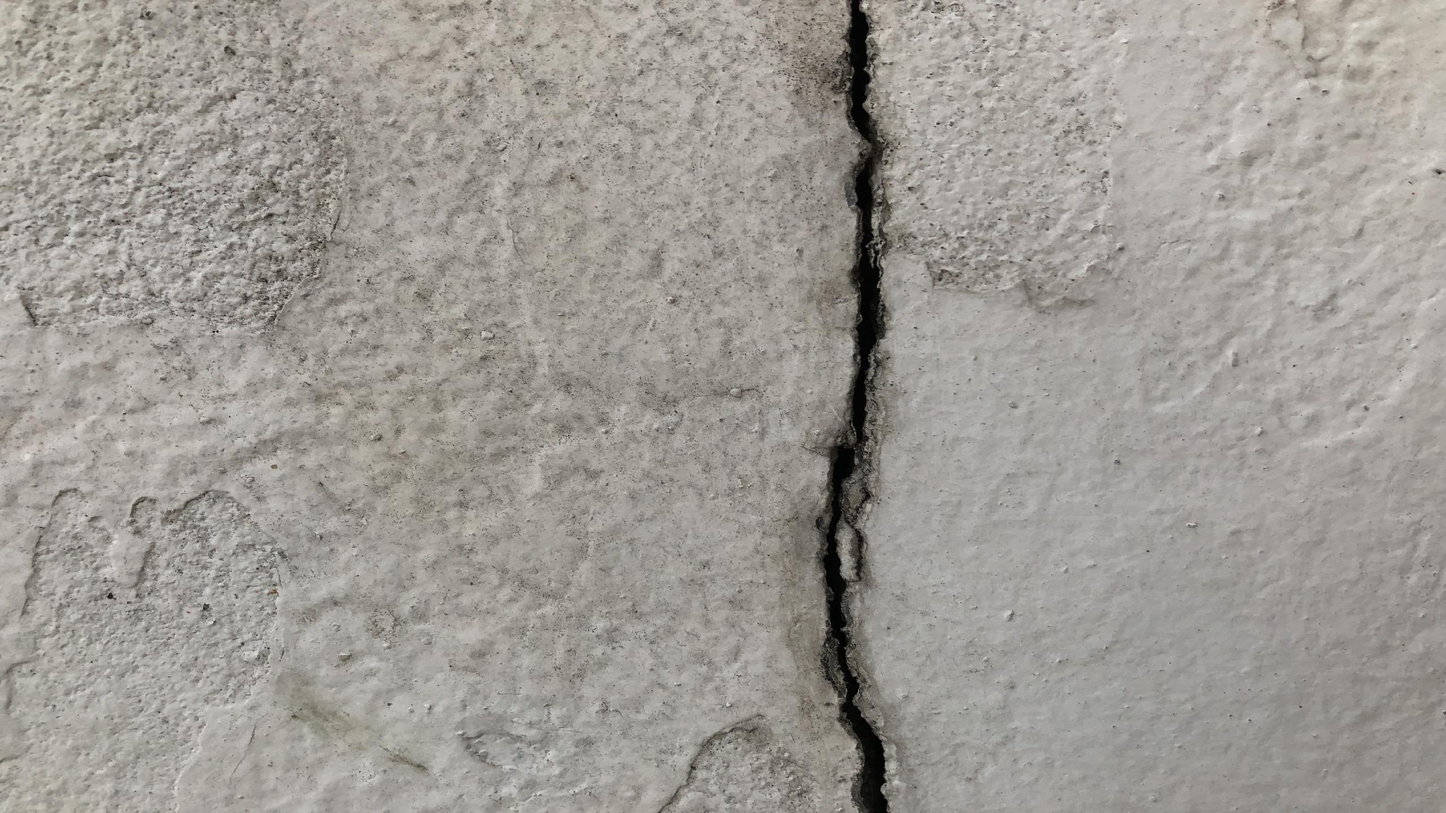crack: (820, 0, 889, 812)
